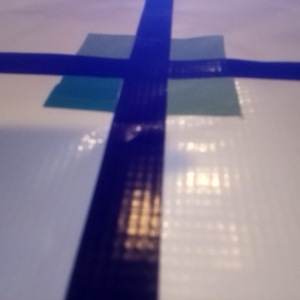bottom_left: (43, 59, 168, 113)
bottom_right: (123, 60, 242, 116)
top_left: (76, 33, 169, 77)
top_right: (136, 36, 226, 77)
